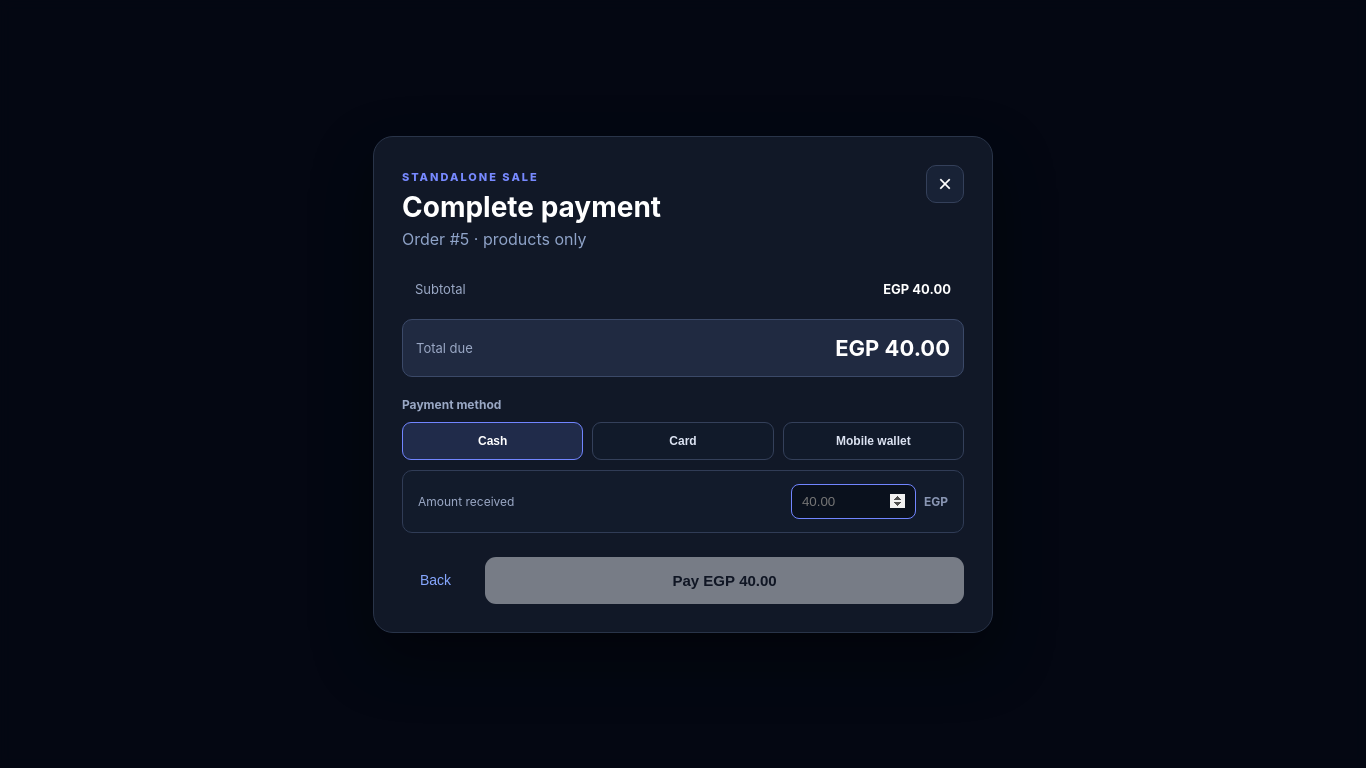
Test: POSPaymentModal › shows the change due once the cash received covers the total
Type "50" into the number field labelled "Amount received".
click(853, 501); type("50")  # box [791,484,916,518]
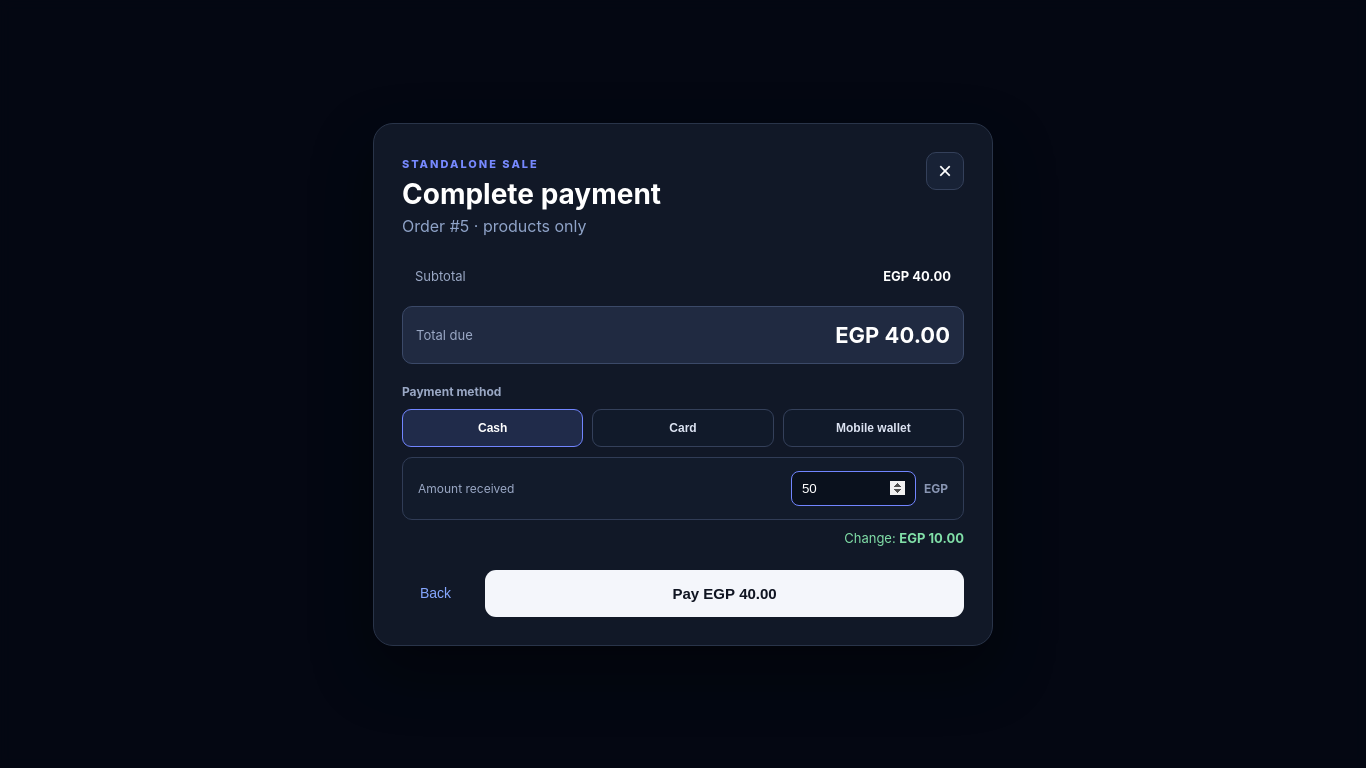
Expected: the text "Change: EGP 10.00" is shown, [844,530,964,546]
